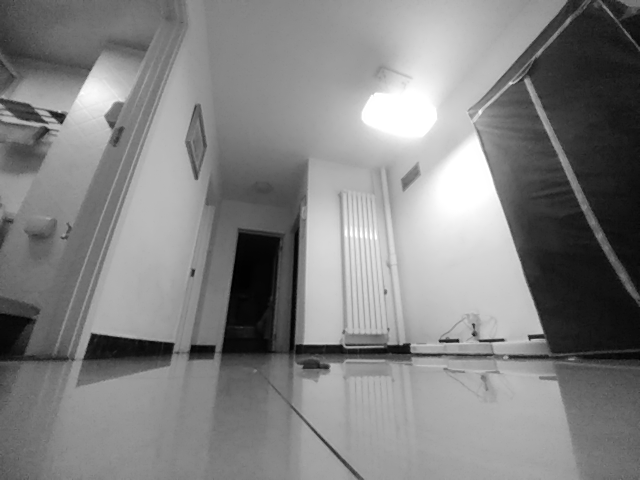pet feces: (295, 356, 331, 372)
